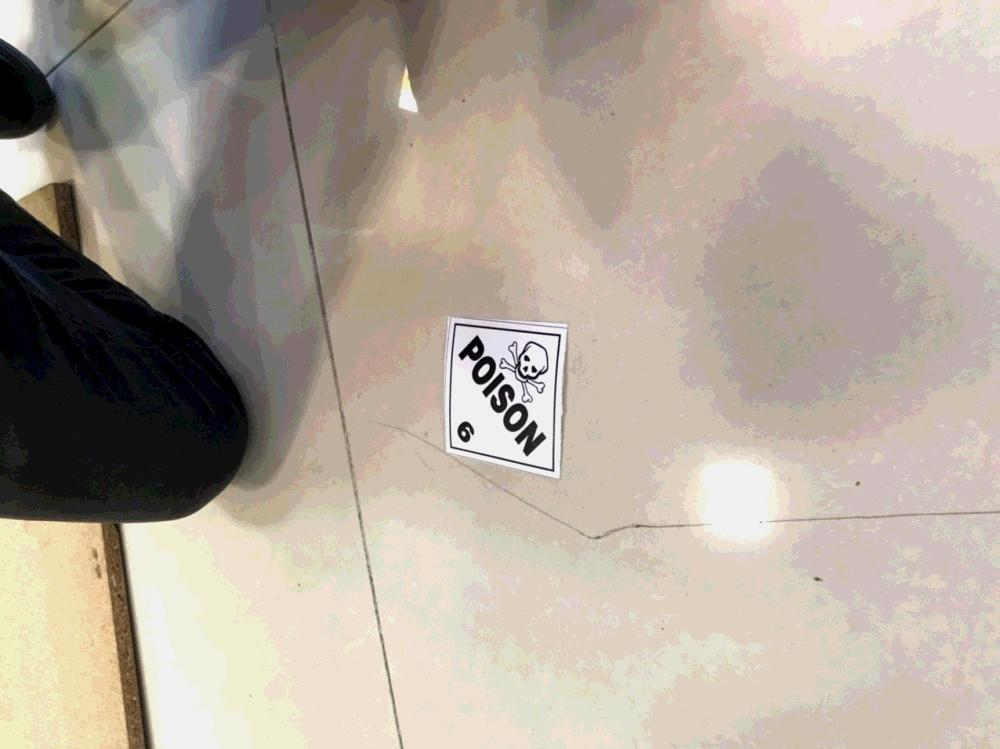poison: (442, 313, 572, 477)
